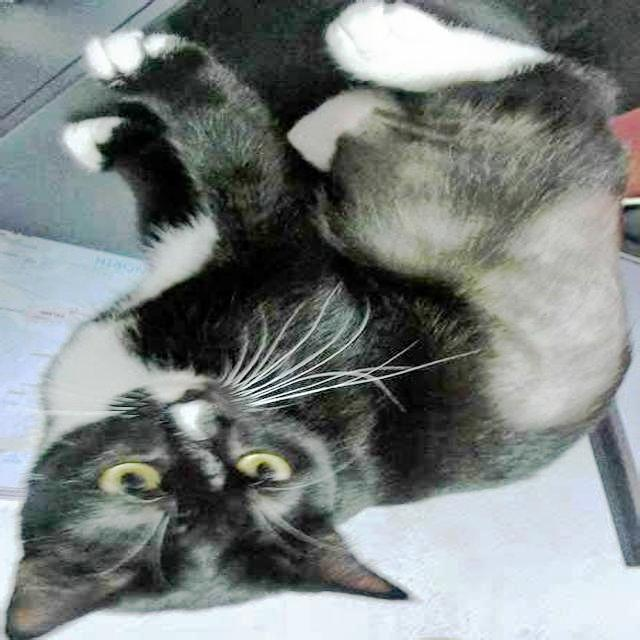hairloss: (502, 164, 622, 432)
